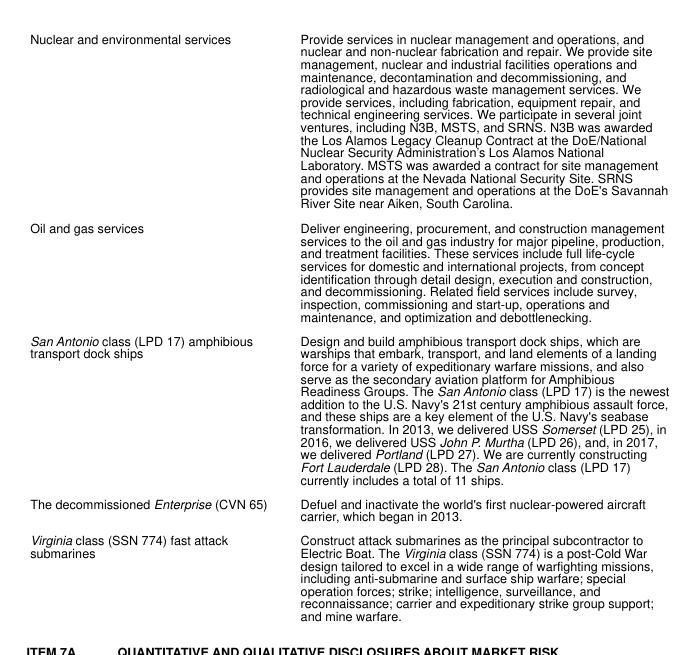table: (29, 29, 668, 623)
table column: (283, 29, 668, 623), (29, 29, 283, 623)
table row: (29, 29, 668, 214), (29, 327, 668, 490), (29, 214, 668, 327), (29, 527, 668, 623), (29, 490, 668, 527)
